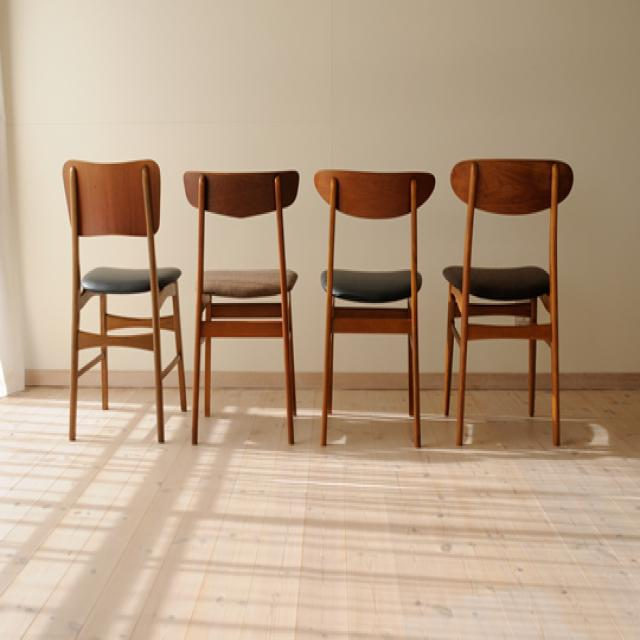chair vintage: (445, 157, 575, 450), (310, 161, 438, 451), (59, 157, 181, 454), (183, 164, 299, 447)
